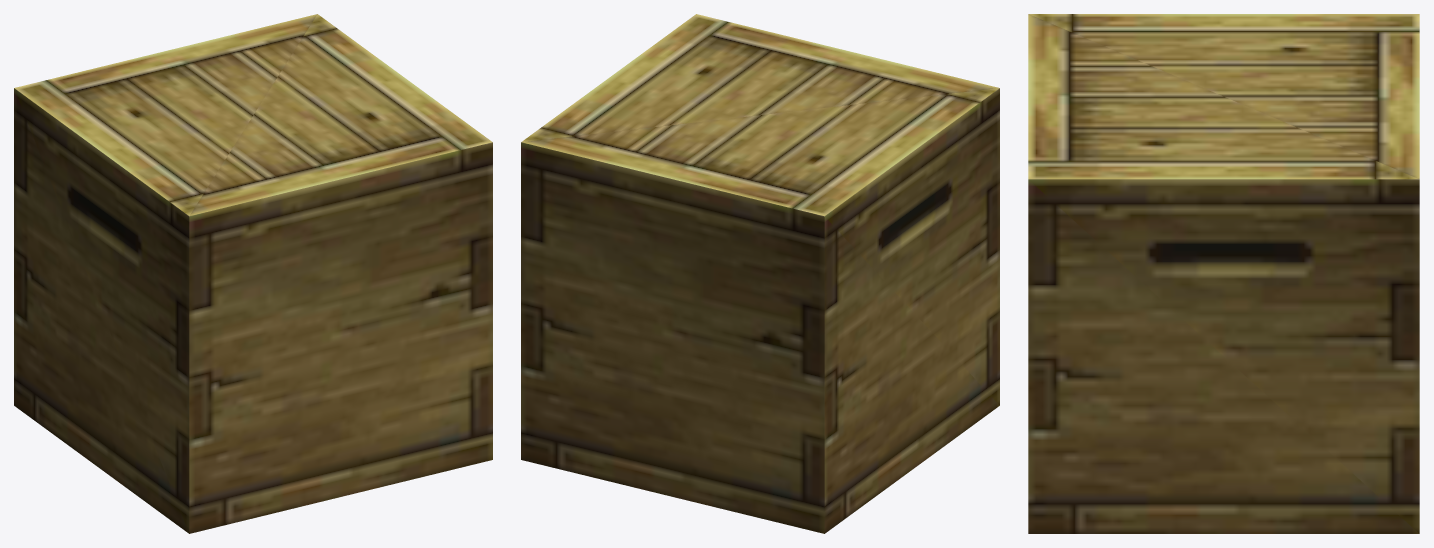
The model's file is hollow_box.dae.
3 views of the same model, side by side, from view 1: azimuth 30°, elevation 25°; view 2: azimuth 150°, elevation 25°; view 3: azimuth 270°, elevation 25° (orthographic). The views are drawn at different scales.
Visible parts, largest first — view 1: box; view 2: box; view 3: box.
Boxes of the visible parts, left/top/right/bottom form: box: left=14, top=14, right=492, bottom=533; box: left=521, top=14, right=999, bottom=533; box: left=1028, top=14, right=1419, bottom=533.
Bounding box in the file's own units: 2 × 2 × 2.
Materials: 1 (1 with a texture image).
